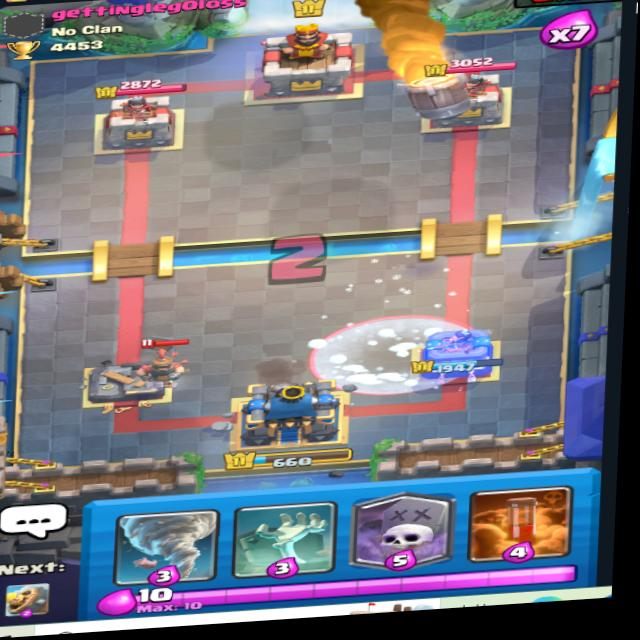freeze: (310, 308, 473, 402)
rocket: (389, 56, 478, 127)
royal-recruits: (125, 305, 200, 371)
